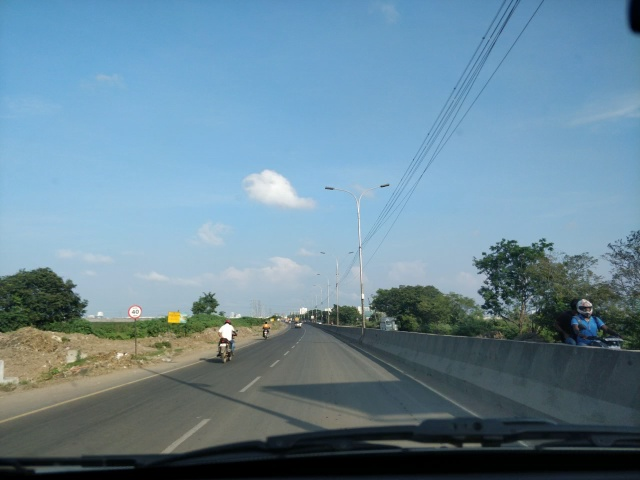bus: (378, 317, 400, 333)
car: (291, 318, 304, 329)
motorbike: (553, 295, 629, 383), (217, 316, 240, 365), (261, 318, 272, 341)
